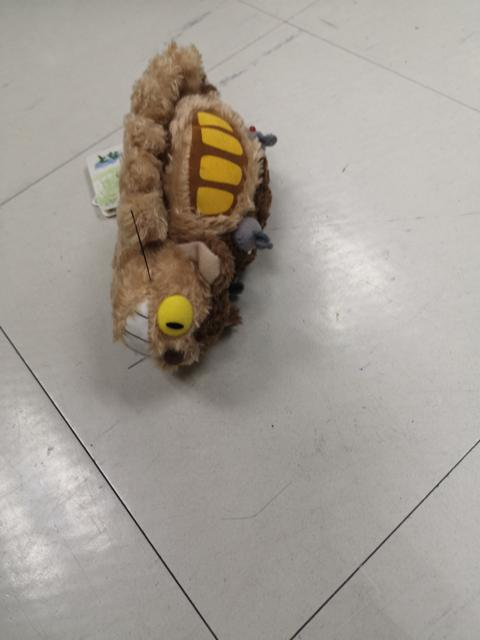nekobus: (100, 29, 284, 381)
